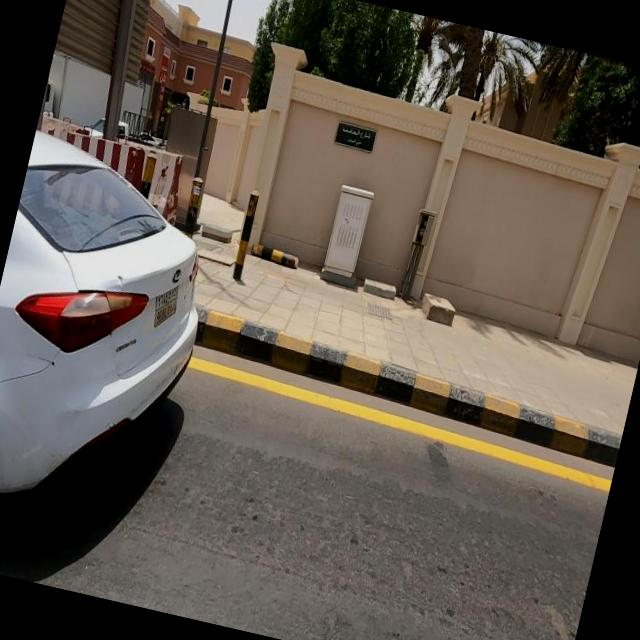debris: (210, 184, 345, 320)
